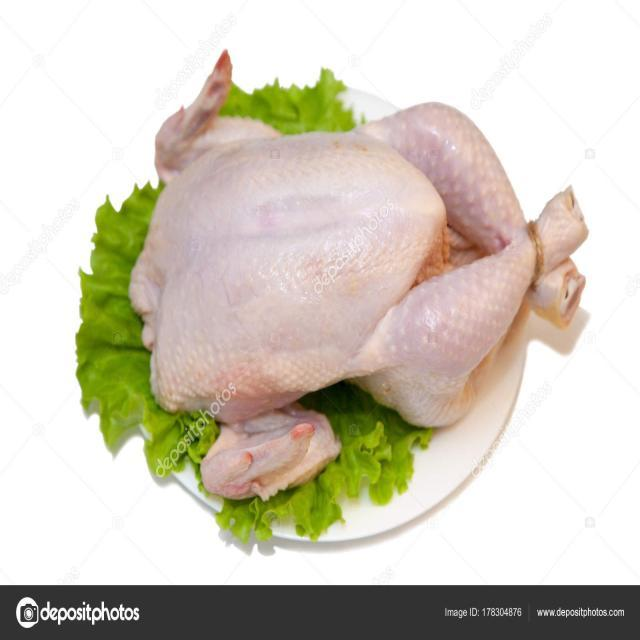Chicken: (120, 42, 612, 504)
